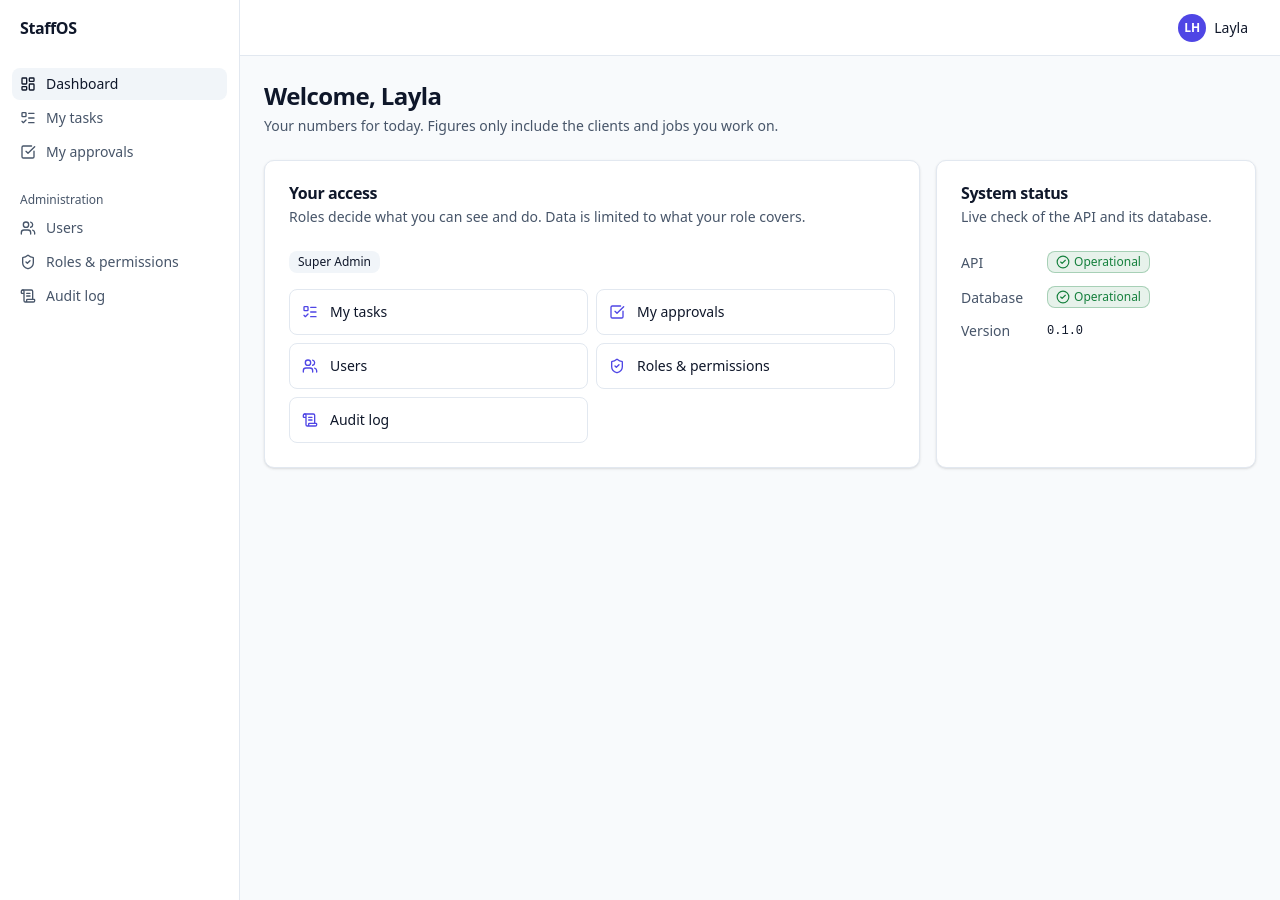
Test: authentication flow › signs out and returns to login
This screenshot has width=1280, height=900.
Click the button with aria-label "Account menu" at (1213, 28), box x1=1170 y1=10 x2=1256 y2=46
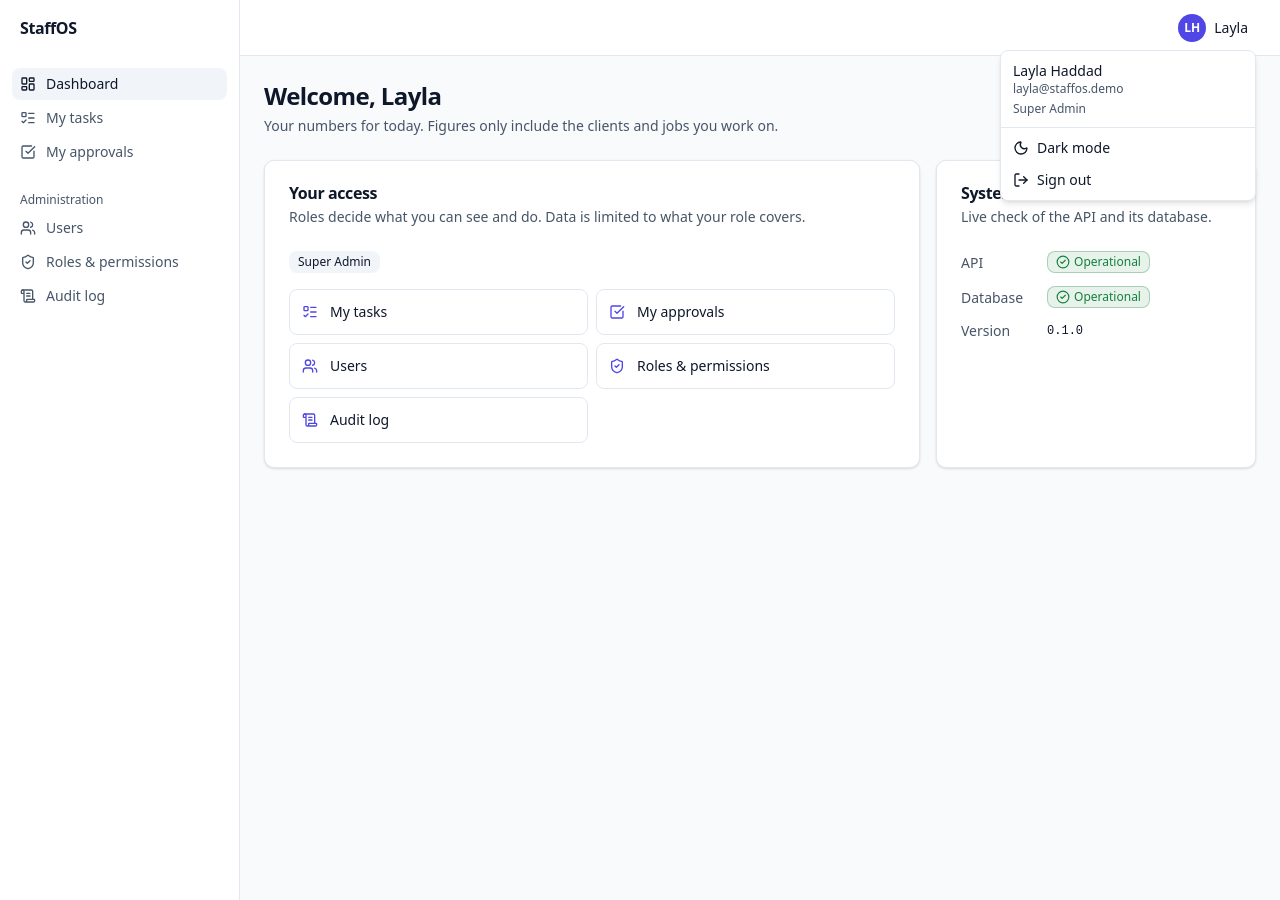
Click the menu item "Sign out" at (1052, 180), box x1=1013 y1=170 x2=1091 y2=189
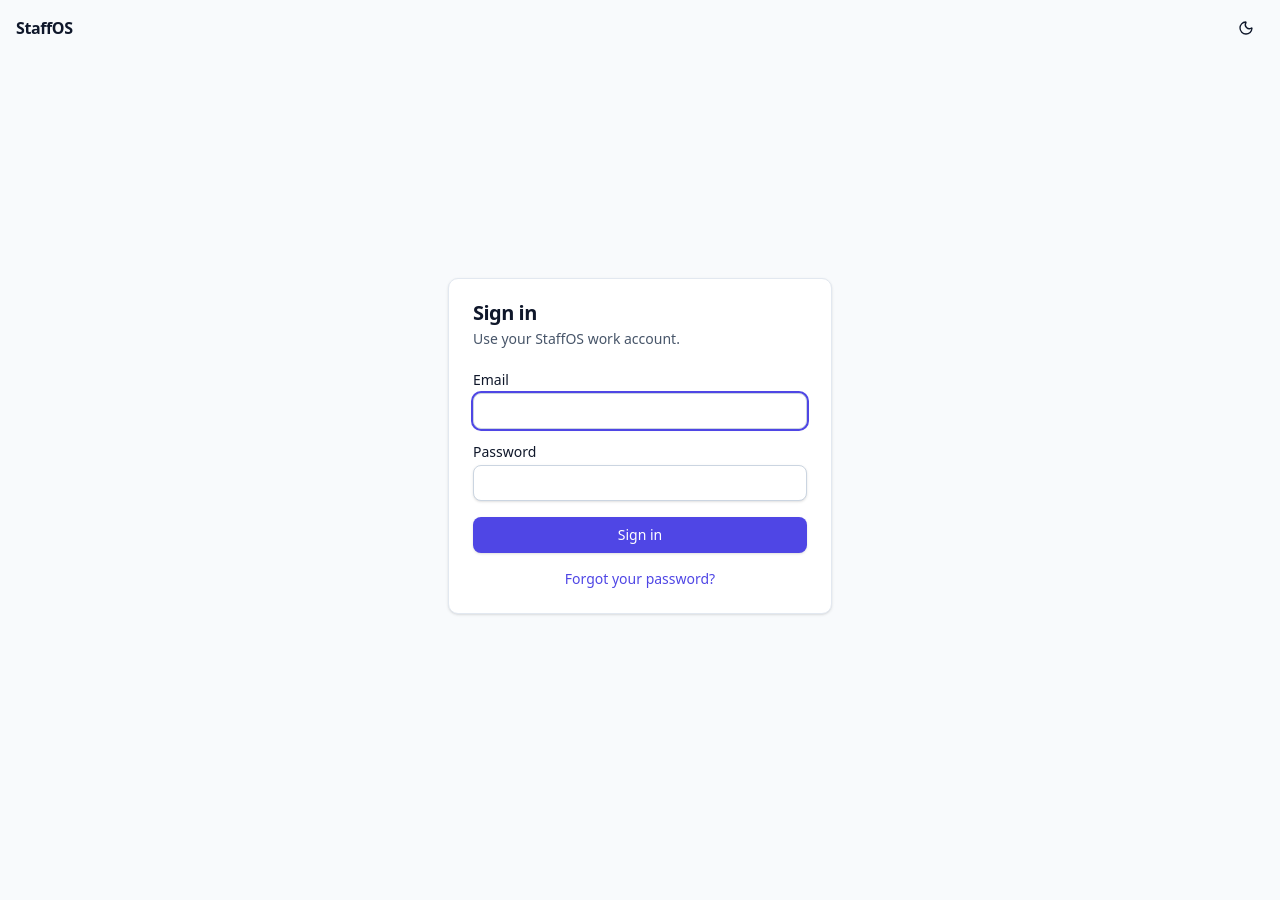
Now the heading "Sign in" is shown, box x1=473 y1=299 x2=537 y2=326
